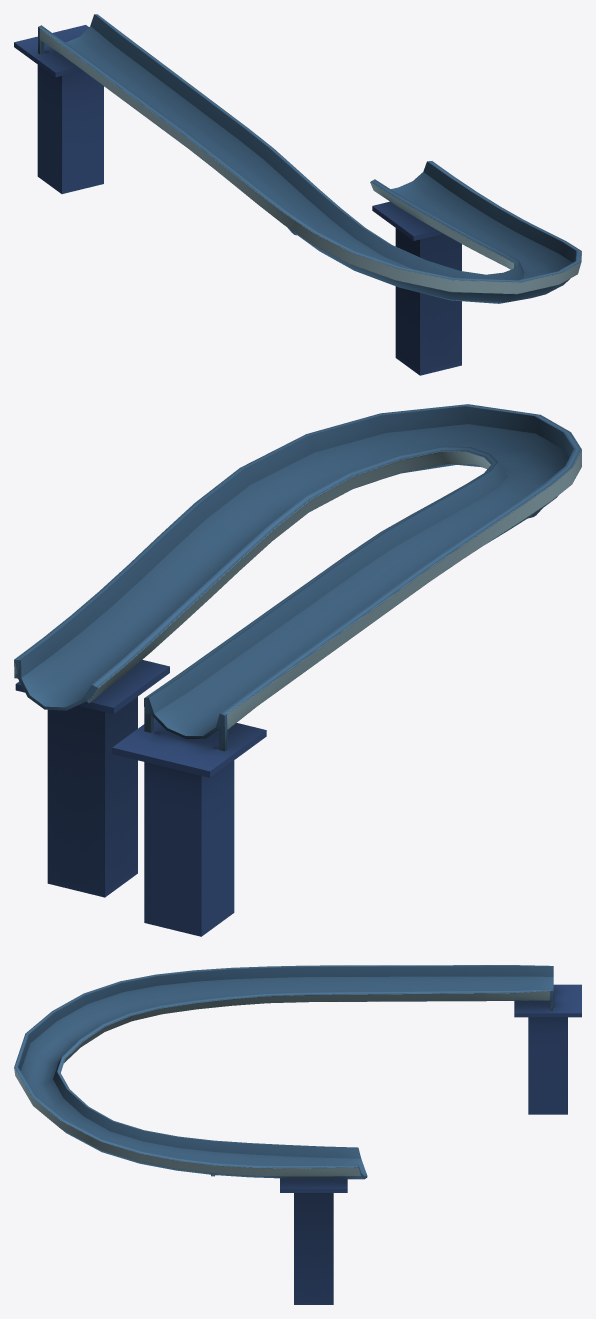
File: slide (2).fbx
The picture shows the model from 3 angles, top to bottom: view 1: azimuth 30°, elevation 25°; view 2: azimuth 150°, elevation 25°; view 3: azimuth 270°, elevation 25°; orthographic projection. The views are drawn at different scales.
Visible parts, largest first — view 1: slide; view 2: slide; view 3: slide.
Part boxes in pixels (x1,y1,x2,y2): slide: (14,14,581,375); slide: (14,404,581,936); slide: (14,965,581,1304).
Size of the model in its own units: 13.62 by 13.07 by 28.69.
